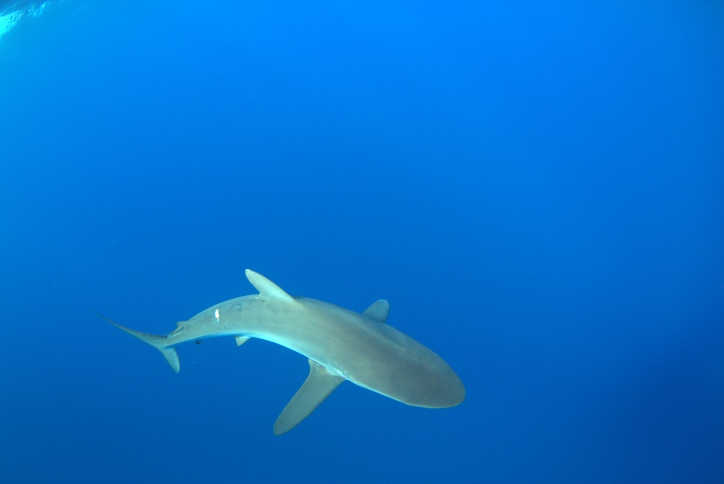Sedoso: (84, 243, 497, 450)
